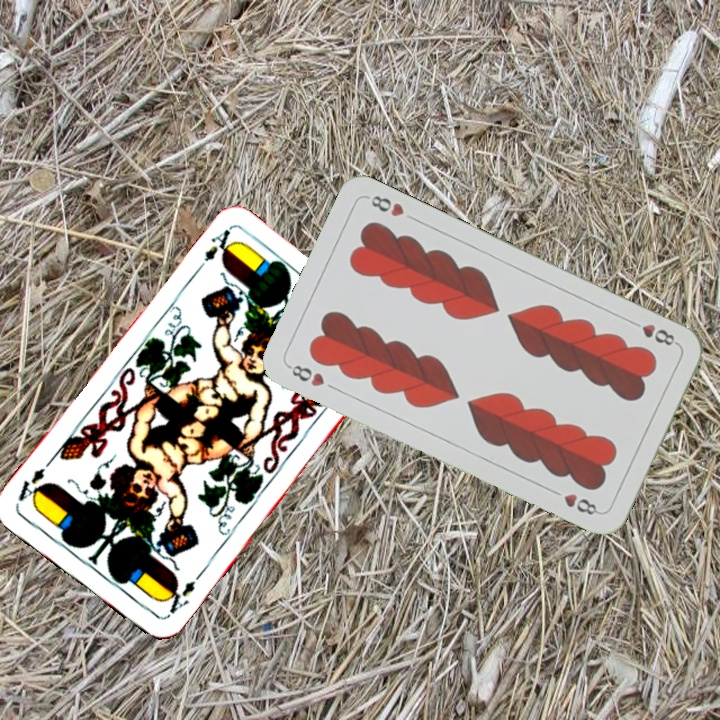EA: (191, 225, 238, 276), (159, 576, 199, 621)
H8: (625, 316, 681, 349), (284, 360, 327, 390)
